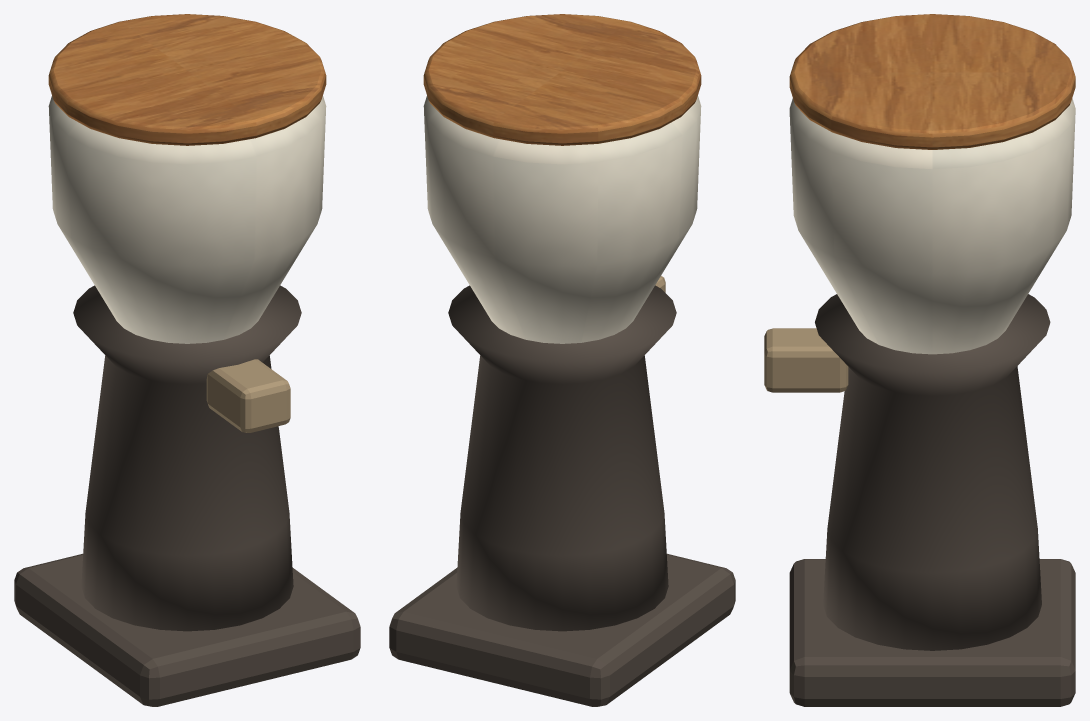
Rendered from WC_CAFE_Grinder_A.glb.
3 views of the same model, side by side, from view 1: azimuth 30°, elevation 25°; view 2: azimuth 150°, elevation 25°; view 3: azimuth 270°, elevation 25° (orthographic). The views are drawn at different scales.
Parts seen in each view (by area): view 1: WC_CAFE_Grinder_A_RenderMesh; view 2: WC_CAFE_Grinder_A_RenderMesh; view 3: WC_CAFE_Grinder_A_RenderMesh.
Part boxes in pixels (<box>): WC_CAFE_Grinder_A_RenderMesh: <box>14,14,360,706</box>; WC_CAFE_Grinder_A_RenderMesh: <box>389,14,735,706</box>; WC_CAFE_Grinder_A_RenderMesh: <box>764,14,1075,706</box>.
Bounding box in the file's own units: 0.34 × 0.767 × 0.37.
Materials: 4 (2 with a texture image).
